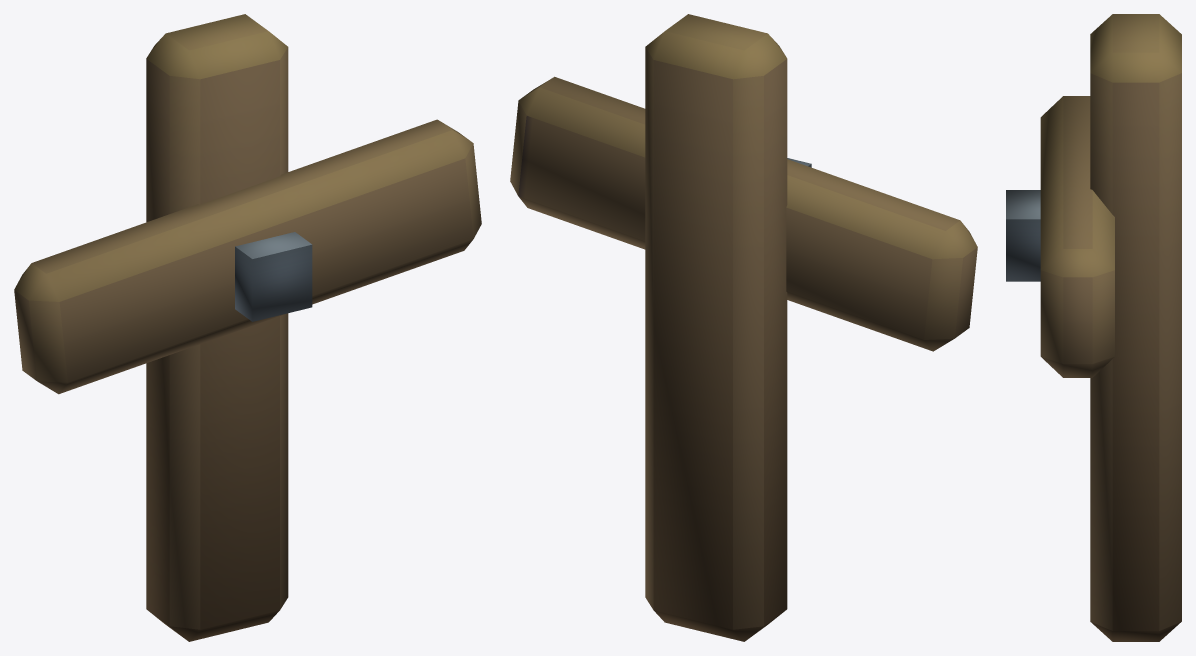
The model's file is cross_wood.fbx.
3 renders of one model, left to right at view 1: azimuth 30°, elevation 25°; view 2: azimuth 150°, elevation 25°; view 3: azimuth 270°, elevation 25°, orthographic.
Visible parts, largest first — view 1: cross_wood; view 2: cross_wood; view 3: cross_wood.
Part boxes in pixels (x1,y1,x2,y2): cross_wood: [14, 14, 481, 641]; cross_wood: [510, 14, 977, 641]; cross_wood: [1006, 14, 1181, 641].
Size of the model in its own units: 92.59 by 116 by 31.22.
